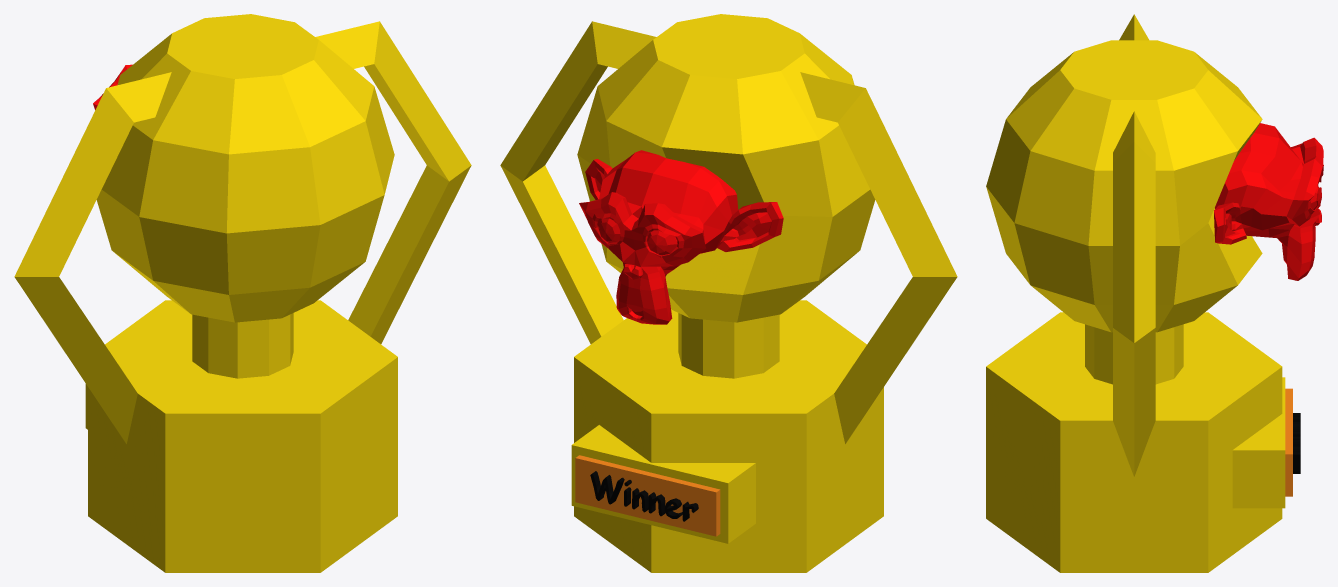
Rendered from Trophy.fbx.
3 renders of one model, left to right at view 1: azimuth 30°, elevation 25°; view 2: azimuth 150°, elevation 25°; view 3: azimuth 270°, elevation 25°, orthographic. The views are drawn at different scales.
Parts seen in each view (by area): view 1: Bottom; view 2: Bottom; view 3: Bottom.
Boxes of the visible parts, <box> form: Bottom: <box>14,14,471,572</box>; Bottom: <box>500,14,957,572</box>; Bottom: <box>986,14,1323,572</box>.
Size of the model in its own units: 102 by 100 by 68.4.
